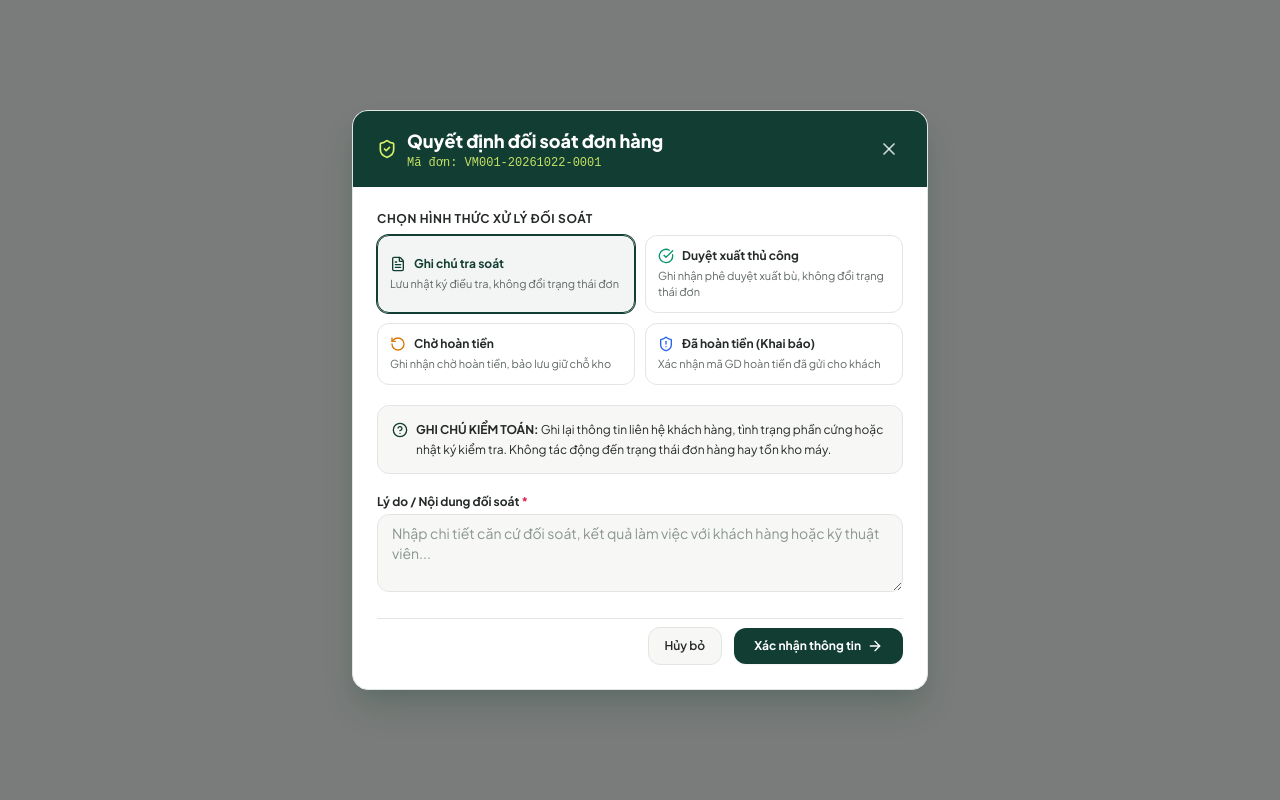
it: ReconciliationDecisionModal Component › displays non-completion disclaimer when REFUND_PENDING is selected
What coordinates should you click on to do the following:
click the text "Chờ hoàn tiền"
I would click on:
 (454, 344)
Its box is 414,336 -> 494,352.
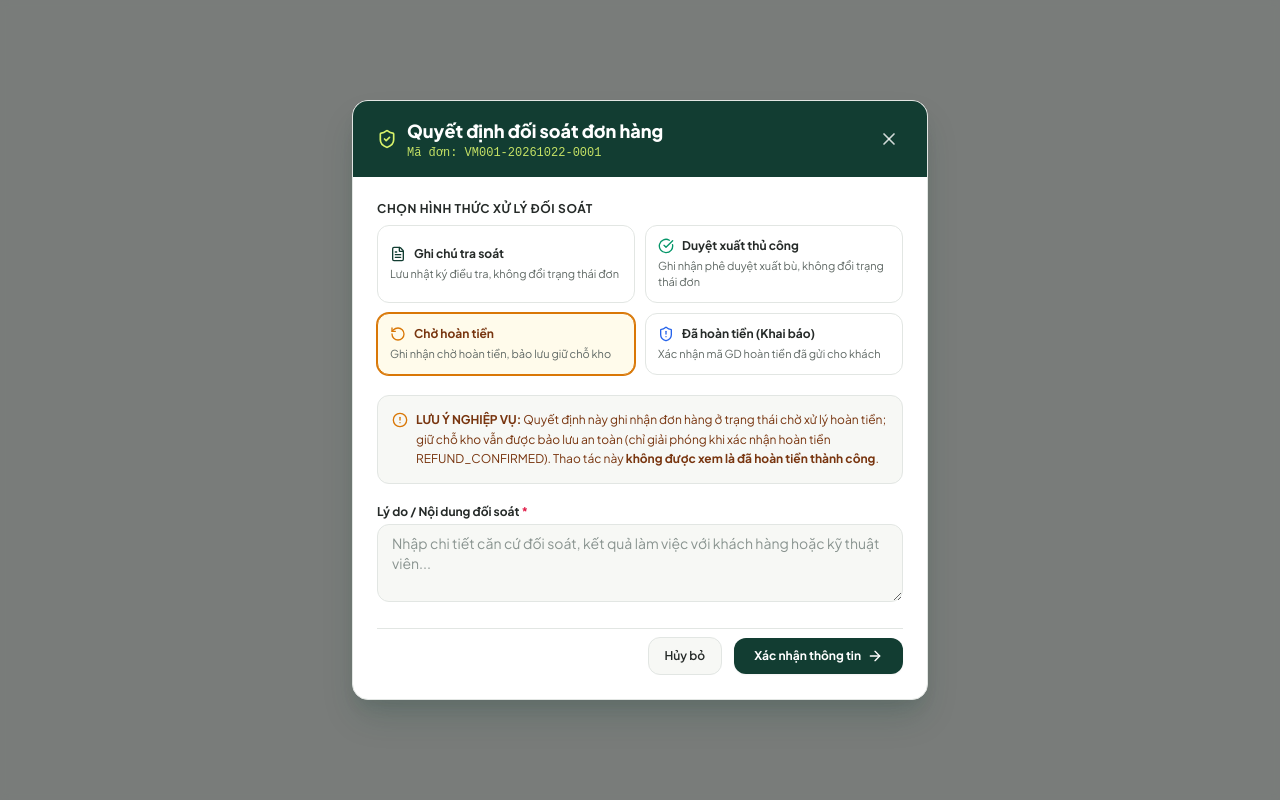
Now the text "không được xem là đã hoàn tiền thành công" is shown, box 626,451 -> 875,466
